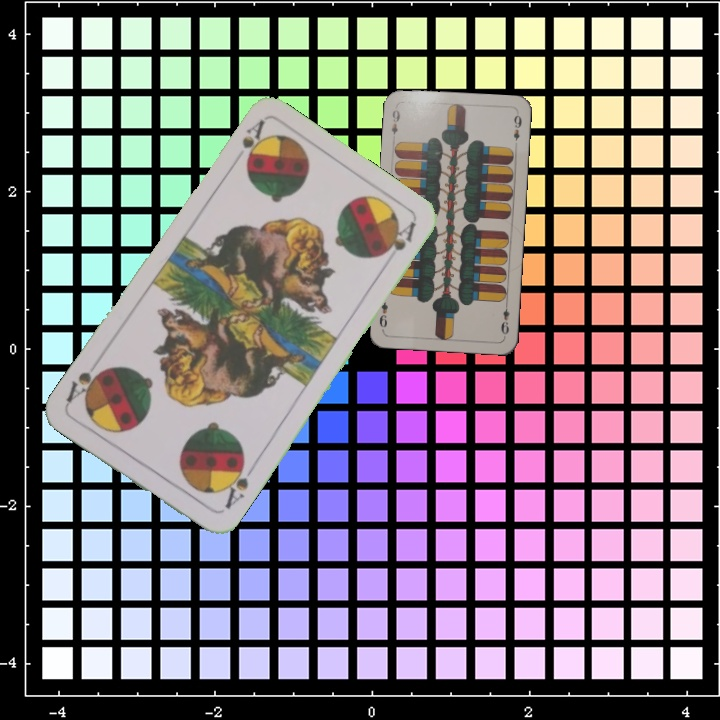E9: (497, 298, 512, 339), (388, 106, 402, 137)
SA: (217, 456, 257, 512), (238, 116, 268, 169)
